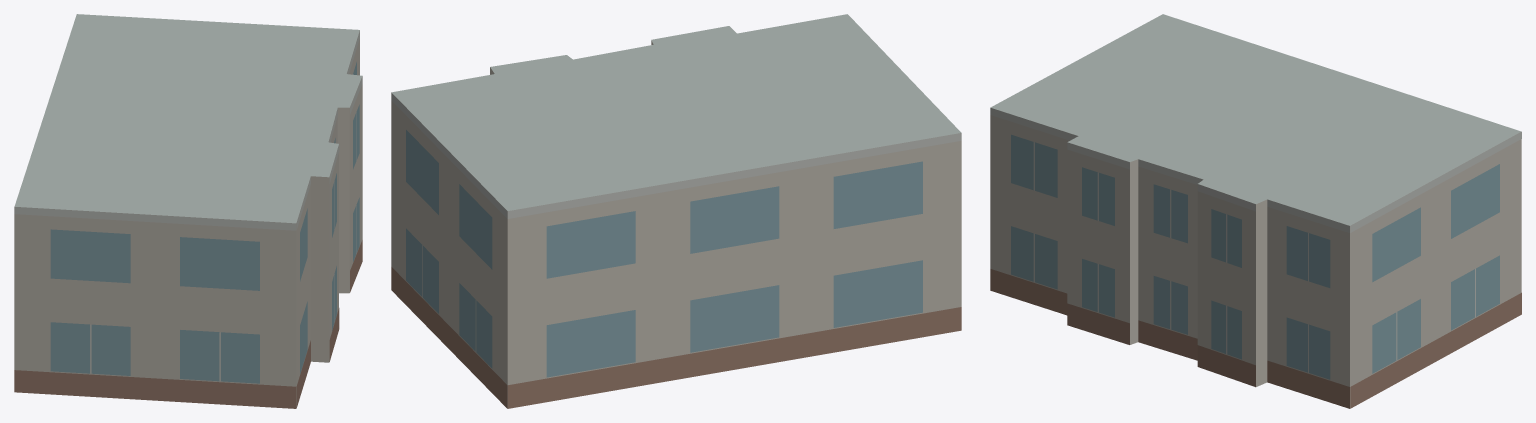
The model's file is survey-upis-32613214.glb.
3 renders of one model, left to right at view 1: azimuth 30°, elevation 25°; view 2: azimuth 150°, elevation 25°; view 3: azimuth 270°, elevation 25°, orthographic. The views are drawn at different scales.
Parts seen in each view (by area): view 1: survey-upis-32613214.tmp; view 2: survey-upis-32613214.tmp; view 3: survey-upis-32613214.tmp.
Part boxes in pixels (x1,y1,x2,y2): survey-upis-32613214.tmp: [14, 14, 362, 408]; survey-upis-32613214.tmp: [391, 14, 961, 408]; survey-upis-32613214.tmp: [990, 14, 1521, 408].
Size of the model in its own units: 15.16 by 6.1 by 16.07.
